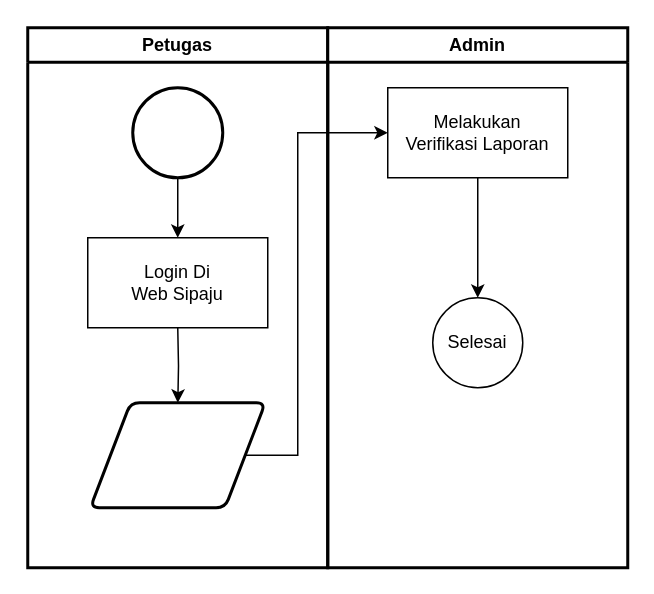
Image size: 654x594. Some labels were removed from this diagram. The shapes that lost their labels are listed below. From the top down, each one's centre as x and y in pixels, then its label:
At pixel 177 132: "Mulai".
At pixel 177 454: "Mengisi Form Tanpa Aduan".
